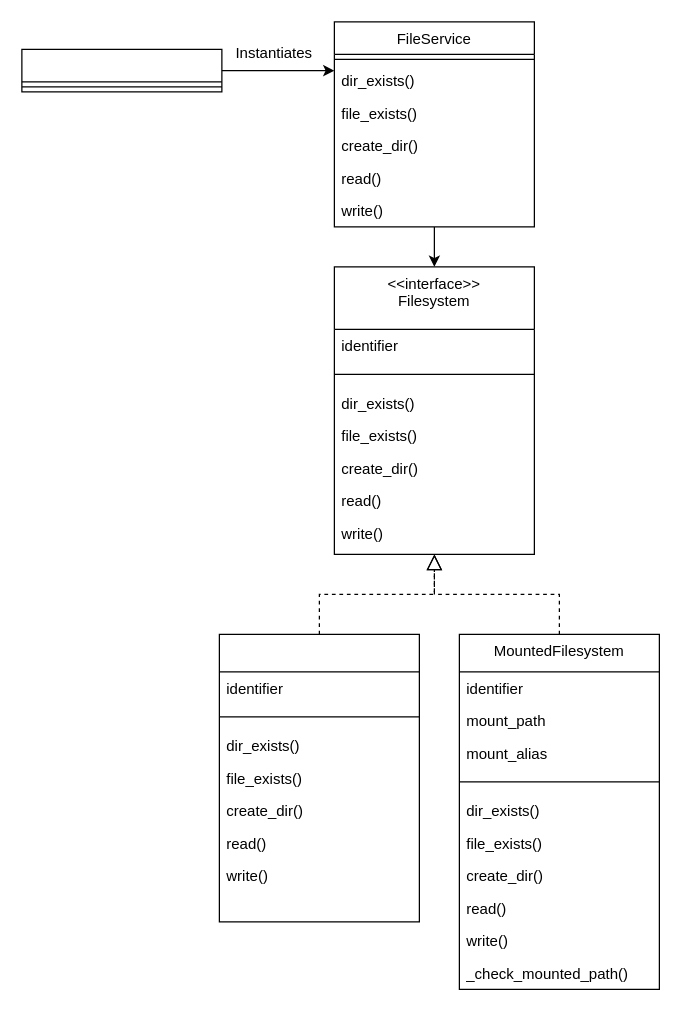
Some shapes in this 681 by 1015 pixel diagram are drawn without their labels. The shapes that lost their labels are listed below. From the top down, each one's box as (x1, y1, x2, y2) in pixels, then its label:
(21, 48, 222, 92): Context
(218, 633, 419, 922): LocalFilesystem
